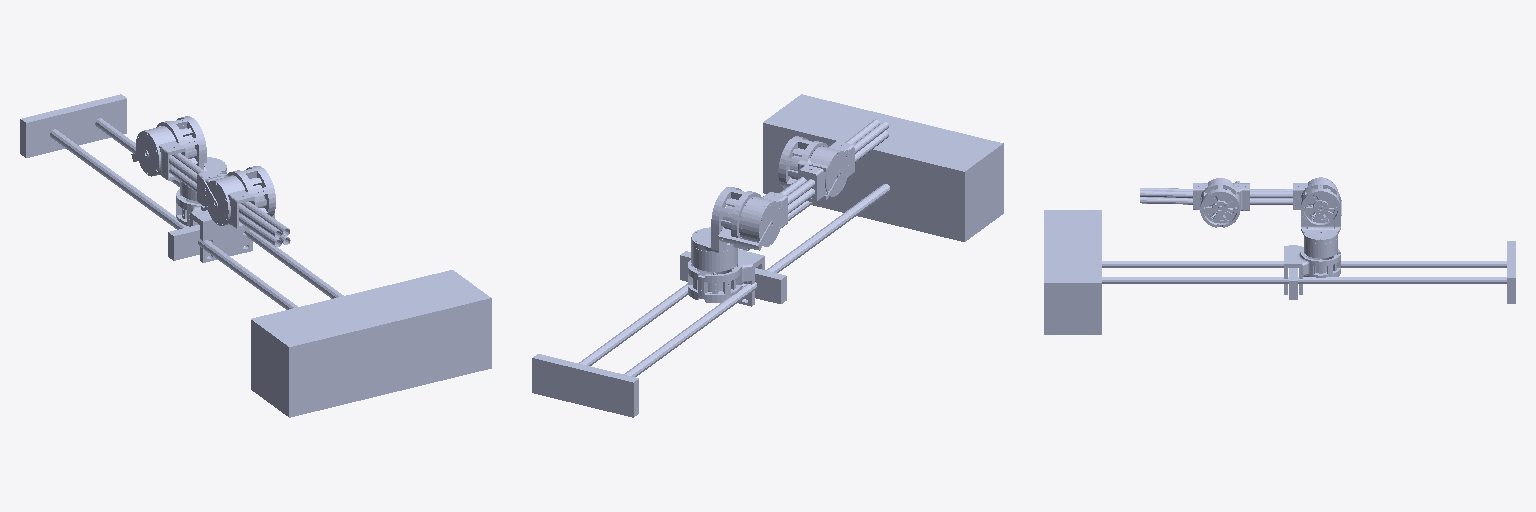
URDF robot description (la_pata_sola):
<?xml version="1.0" encoding="utf-8"?>
<!-- URDF exportado desde SolidWorks — adaptado para el paquete ROS 2 'parcial2' -->
<robot name="la_pata_sola">

  <!-- ═══════════════════════════════════════════════════════════
       BASE LINK  (cuerpo fijo / cadera)
  ═══════════════════════════════════════════════════════════════ -->
  <link name="base_link">
    <inertial>
      <origin xyz="-0.00101390636321122 -0.729019689310458 -0.00893588084028024" rpy="0 0 0"/>
      <mass value="27.8828413093943"/>
      <inertia ixx="3.19453852794549"  ixy="-1.3605088640903E-05"
               ixz="-1.71572868119312E-06"
               iyy="0.821713317231372" iyz="-0.000294599561979439"
               izz="3.85213098674935"/>
    </inertial>
    <visual>
      <origin xyz="0 0 0" rpy="0 0 0"/>
      <geometry>
        <mesh filename="package://parcial2/meshes/base_link.STL"/>
      </geometry>
      <material name="">
        <color rgba="0.792156862745098 0.819607843137255 0.933333333333333 1"/>
      </material>
    </visual>
    <collision>
      <origin xyz="0 0 0" rpy="0 0 0"/>
      <geometry>
        <mesh filename="package://parcial2/meshes/base_link.STL"/>
      </geometry>
    </collision>
  </link>

  <!-- ═══════════════════════════════════════════════════════════
       LINK_C  (coxa — eslabón 1, rotación sobre Z)
       joint_c:  traslación z = 0.1439 m desde base_link
  ═══════════════════════════════════════════════════════════════ -->
  <link name="link_c">
    <inertial>
      <origin xyz="-0.0296268240671317 0.00194443709759426 0.00560285248569747" rpy="0 0 0"/>
      <mass value="0.982110186957628"/>
      <inertia ixx="0.00257194309893486" ixy="-4.74882459357498E-06"
               ixz="0.000375033680860801"
               iyy="0.00233787132207173" iyz="2.89242201160099E-06"
               izz="0.00248595798616944"/>
    </inertial>
    <visual>
      <origin xyz="0 0 0" rpy="0 0 0"/>
      <geometry>
        <mesh filename="package://parcial2/meshes/link_c.STL"/>
      </geometry>
      <material name="">
        <color rgba="0.792156862745098 0.819607843137255 0.933333333333333 1"/>
      </material>
    </visual>
    <collision>
      <origin xyz="0 0 0" rpy="0 0 0"/>
      <geometry>
        <mesh filename="package://parcial2/meshes/link_c.STL"/>
      </geometry>
    </collision>
  </link>

  <joint name="joint_c" type="revolute">
    <origin xyz="0 0 0.1439" rpy="0 0 0"/>
    <parent link="base_link"/>
    <child  link="link_c"/>
    <axis xyz="0 0 -1"/>
    <limit lower="-1.57" upper="1.57" effort="0" velocity="0"/>
  </joint>

  <!-- ═══════════════════════════════════════════════════════════
       LINK_P  (fémur — eslabón 2, rotación sobre Z local)
       joint_p:  traslación (-0.0403, 0, 0.075) + rotación RPY(π/2, 0, -π/2)
  ═══════════════════════════════════════════════════════════════ -->
  <link name="link_p">
    <inertial>
      <origin xyz="0.183551124934279 0.00017154363957206 0.0679844161424177" rpy="0 0 0"/>
      <mass value="1.03386158270774"/>
      <inertia ixx="0.00185267635708423" ixy="-4.38923080048466E-06"
               ixz="0.000403571547615038"
               iyy="0.00291827942897862" iyz="6.52471750998595E-06"
               izz="0.00342207831363084"/>
    </inertial>
    <visual>
      <origin xyz="0 0 0" rpy="0 0 0"/>
      <geometry>
        <mesh filename="package://parcial2/meshes/link_p.STL"/>
      </geometry>
      <material name="">
        <color rgba="0.792156862745098 0.819607843137255 0.933333333333333 1"/>
      </material>
    </visual>
    <collision>
      <origin xyz="0 0 0" rpy="0 0 0"/>
      <geometry>
        <mesh filename="package://parcial2/meshes/link_p.STL"/>
      </geometry>
    </collision>
  </link>

  <joint name="joint_p" type="revolute">
    <origin xyz="-0.0403 0 0.075" rpy="1.5708 0 -1.5706"/>
    <parent link="link_c"/>
    <child  link="link_p"/>
    <axis xyz="0 0 -1"/>
    <limit lower="-1.57" upper="1.57" effort="0" velocity="0"/>
  </joint>

  <!-- ═══════════════════════════════════════════════════════════
       LINK_R  (tibia — eslabón 3, rotación sobre Z local)
       joint_r:  traslación (0.3505, -2.9381E-05, -0.00365) + yaw=0.026978 rad
  ═══════════════════════════════════════════════════════════════ -->
  <link name="link_r">
    <inertial>
      <origin xyz="0.0467273676060766 -4.04422570605967E-09 0.0886045200025964" rpy="0 0 0"/>
      <mass value="0.522331316228209"/>
      <inertia ixx="0.000574365008314387" ixy="1.17685178957624E-10"
               ixz="-8.53933466036227E-06"
               iyy="0.00125001245680216"  iyz="-2.66794242487717E-10"
               izz="0.001659392848682"/>
    </inertial>
    <visual>
      <origin xyz="0 0 0" rpy="0 0 0"/>
      <geometry>
        <mesh filename="package://parcial2/meshes/link_r.STL"/>
      </geometry>
      <material name="">
        <color rgba="0.792156862745098 0.819607843137255 0.933333333333333 1"/>
      </material>
    </visual>
    <collision>
      <origin xyz="0 0 0" rpy="0 0 0"/>
      <geometry>
        <mesh filename="package://parcial2/meshes/link_r.STL"/>
      </geometry>
    </collision>
  </link>

  <joint name="joint_r" type="revolute">
    <origin xyz="0.3505 -2.9381E-05 -0.00365" rpy="0 0 0.026978"/>
    <parent link="link_p"/>
    <child  link="link_r"/>
    <axis xyz="0 0 -1"/>
    <limit lower="-1.57" upper="1.57" effort="0" velocity="0"/>
  </joint>

</robot>

--- Facts derived from the render (not from the file) ---
3 views of the same robot in one strip: view 1: azimuth 30°, elevation 25°; view 2: azimuth 150°, elevation 25°; view 3: azimuth 270°, elevation 25° (orthographic).
Model la_pata_sola with 4 links and 3 joints (3 revolute), rooted at base_link, posed every joint at zero.
Visible links, largest first — view 1: base_link, link_p, link_r, link_c; view 2: base_link, link_p, link_c, link_r; view 3: base_link, link_p, link_c, link_r.
Boxes of the visible links, box(x1,y1,x2,y2) form: base_link: box(20, 94, 491, 417); link_p: box(136, 126, 275, 216); link_r: box(205, 176, 290, 246); link_c: box(131, 116, 226, 203); base_link: box(532, 94, 1003, 417); link_p: box(723, 136, 841, 246); link_c: box(691, 187, 773, 291); link_r: box(790, 119, 888, 196); base_link: box(1044, 210, 1515, 334); link_p: box(1200, 177, 1337, 227); link_c: box(1301, 182, 1341, 272); link_r: box(1140, 178, 1233, 219).
Size in the robot's own frame: 0.6 by 1.64 by 0.3986 metres.
4 mesh visuals loaded from 4 distinct referenced files (4 binary STL).
